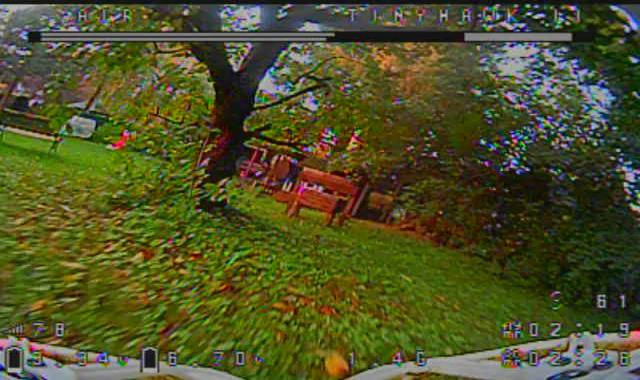horse: (275, 158, 361, 230), (281, 187, 340, 228)
